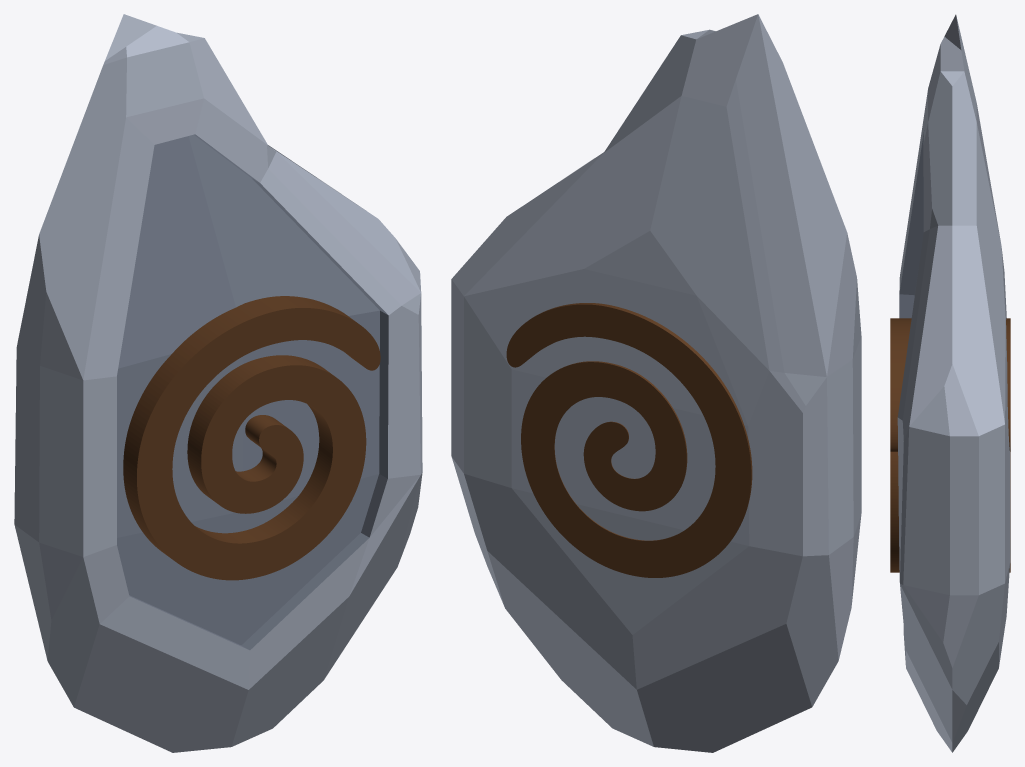
File: RUNES_SPIRAL.fbx
3 renders of one model, left to right at view 1: azimuth 30°, elevation 25°; view 2: azimuth 150°, elevation 25°; view 3: azimuth 270°, elevation 25°, orthographic. The views are drawn at different scales.
Visible parts, largest first — view 1: Text.003; view 2: Text.003; view 3: Text.003.
Part boxes in pixels (left/top/right/bottom): Text.003: left=14, top=14, right=422, bottom=752; Text.003: left=451, top=14, right=861, bottom=752; Text.003: left=890, top=14, right=1010, bottom=752.
Bounding box in the file's own units: 198 × 370 × 60.06.
